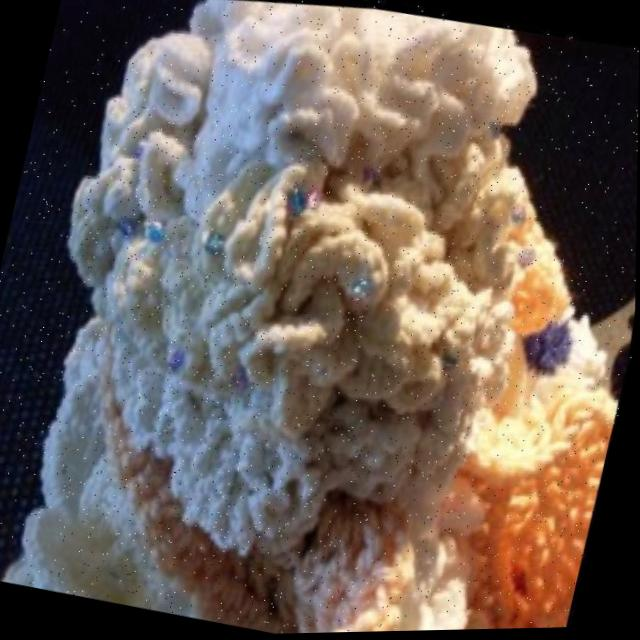Bleached Coral: (14, 0, 604, 640)
